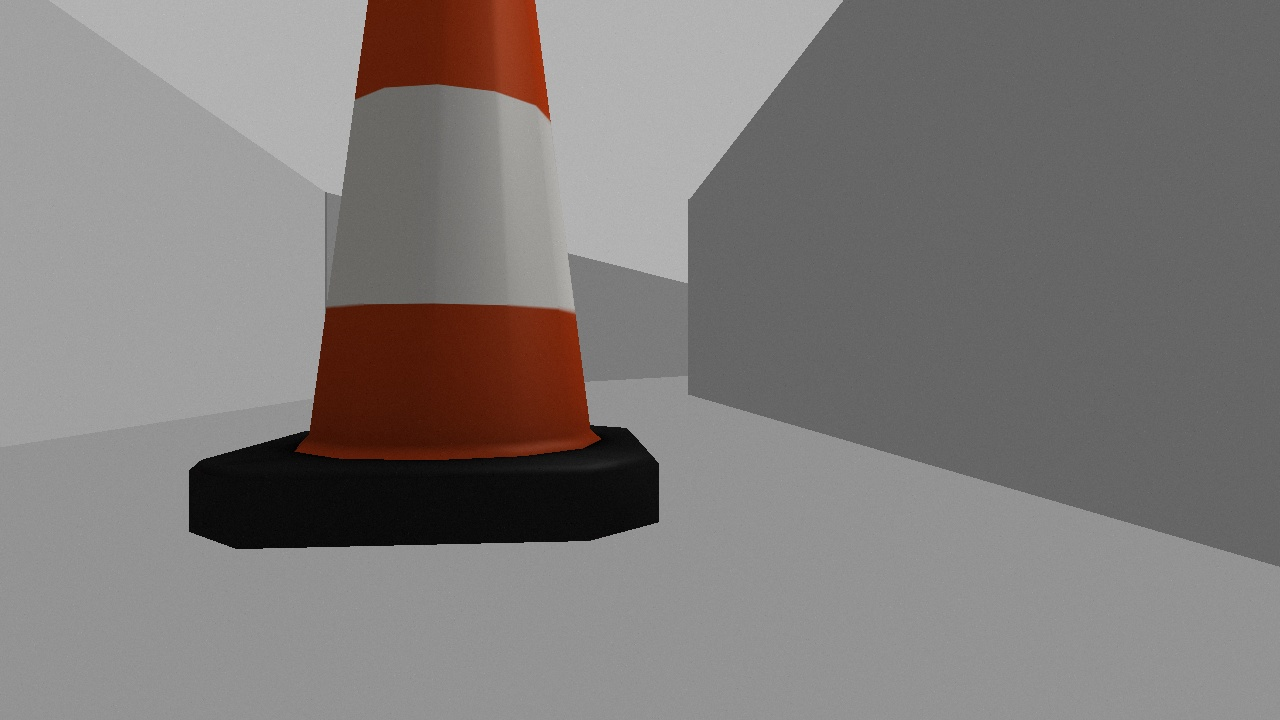barricade: (150, 1, 695, 576)
